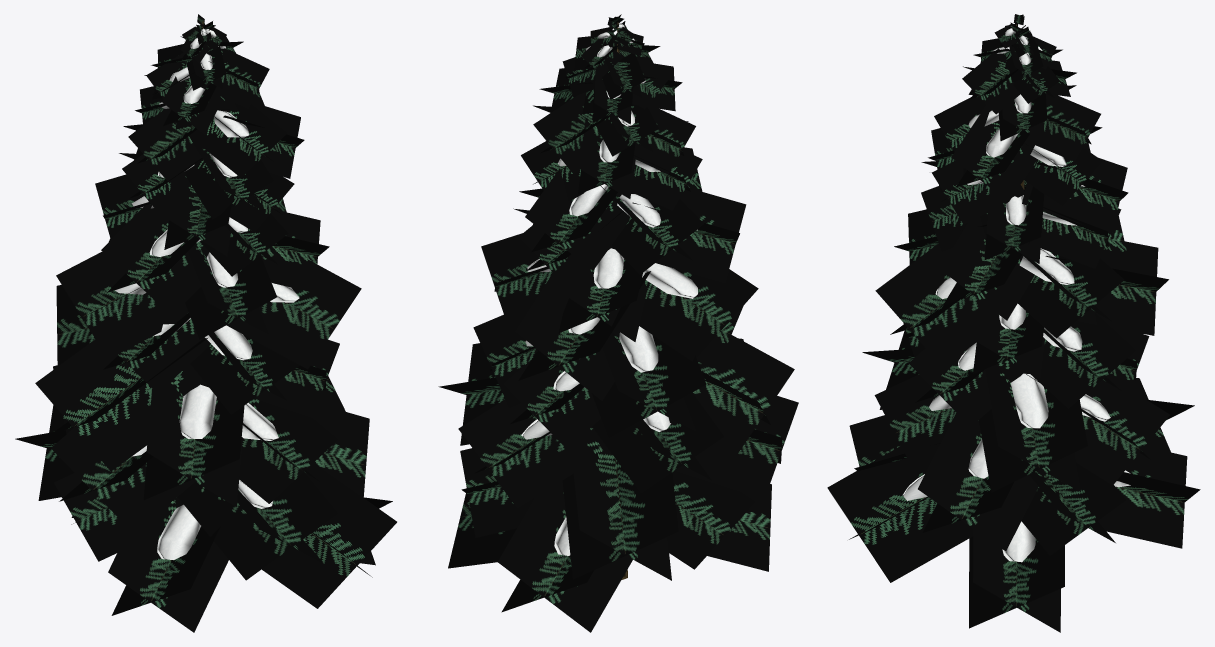
3 views of the same model, side by side, from view 1: azimuth 30°, elevation 25°; view 2: azimuth 150°, elevation 25°; view 3: azimuth 270°, elevation 25° (orthographic). The views are drawn at different scales.
Visible parts, largest first — view 1: Mesh_NeedleSprays, Mesh_SupportedSnowLoads; view 2: Mesh_NeedleSprays, Mesh_SupportedSnowLoads; view 3: Mesh_NeedleSprays, Mesh_SupportedSnowLoads.
Part boxes in pixels (x1,y1,x2,y2): Mesh_NeedleSprays: (15,14,396,632); Mesh_SupportedSnowLoads: (115,28,299,559); Mesh_NeedleSprays: (438,14,798,632); Mesh_SupportedSnowLoads: (521,24,697,555); Mesh_NeedleSprays: (827,14,1200,632); Mesh_SupportedSnowLoads: (903,26,1130,562).
Size of the model in its own units: 6.55 by 10.99 by 6.78.
3 materials, 3 textured.
